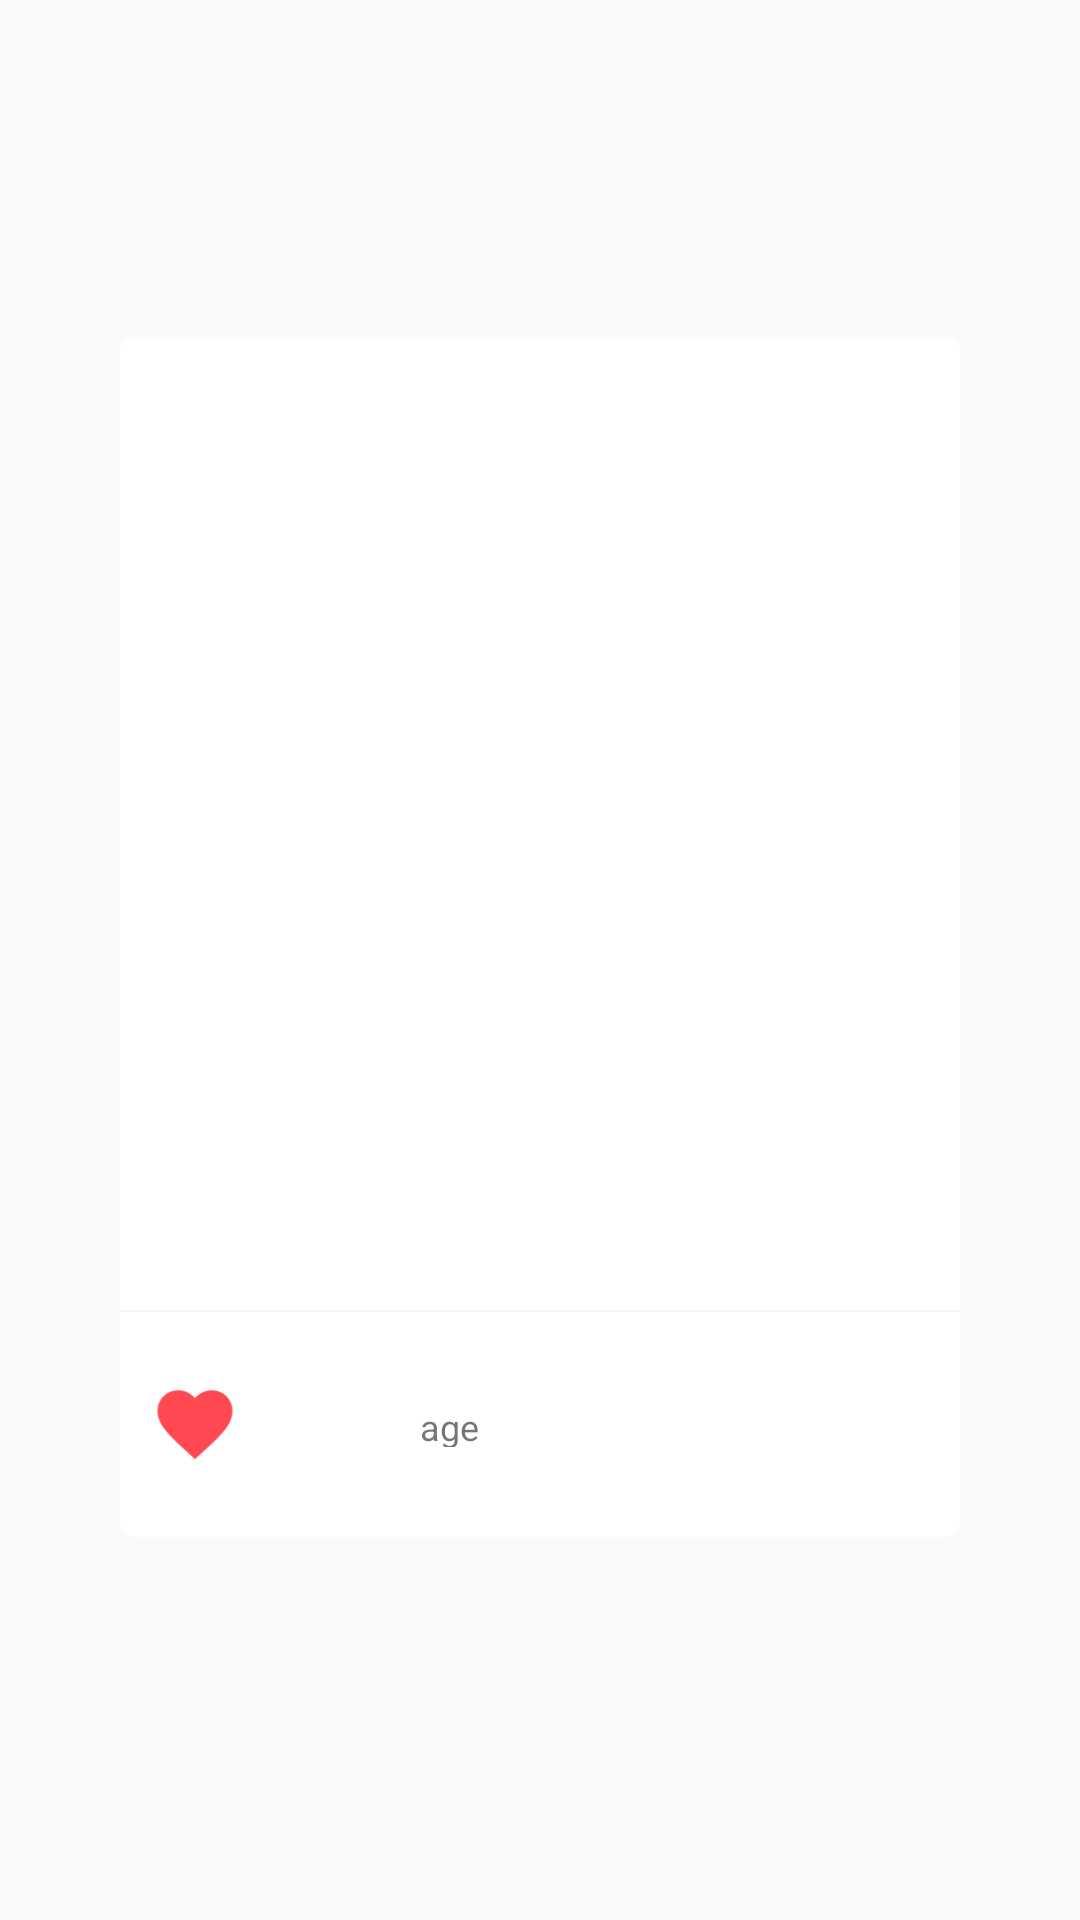

Screen size 1080 x 1920. Icon name, then its box in pixels as (x1, y1, x2, y2):
hearts: (157, 1390, 233, 1459)
